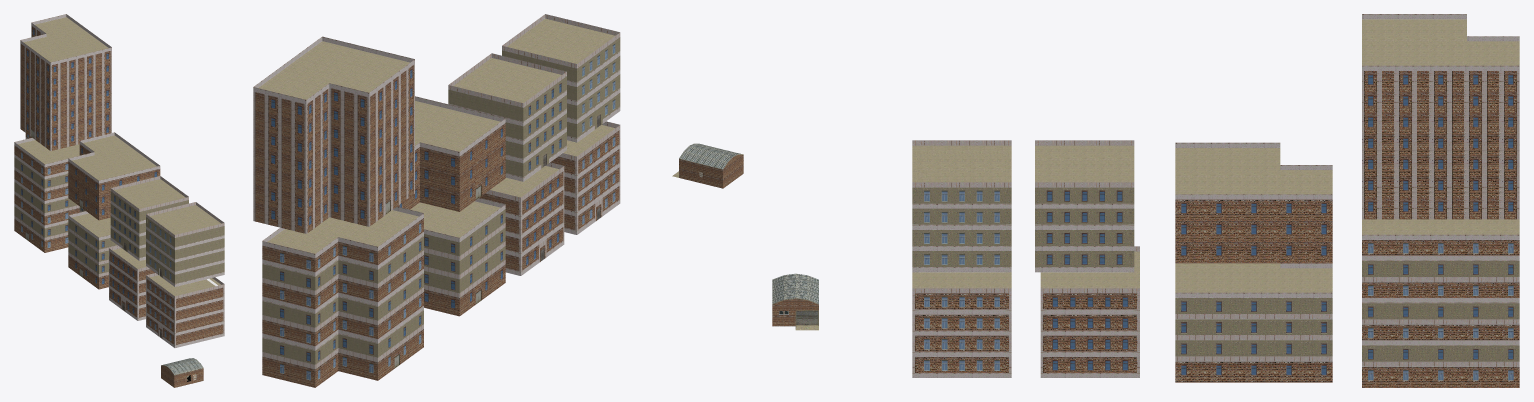
The model's file is env_urban_buildings_prebuild.glb.
3 renders of one model, left to right at view 1: azimuth 30°, elevation 25°; view 2: azimuth 150°, elevation 25°; view 3: azimuth 270°, elevation 25°, orthographic. The views are drawn at different scales.
Visible parts, largest first — view 1: flat_Lshape_vertical_stripes, flat_Lshape_large_alt, flat_square_concrete, flat_square_brick, flat_Lshape_brick, flat_square_concrete_alt, flat_Lshape, flat_square_brick_alt, Hangar1; view 2: flat_Lshape_vertical_stripes, flat_Lshape_large_alt, flat_square_concrete_alt, flat_Lshape_brick, flat_Lshape, flat_square_concrete, flat_square_brick_alt, flat_square_brick, Hangar1; view 3: flat_Lshape_vertical_stripes, flat_Lshape_large_alt, flat_Lshape, flat_Lshape_brick, flat_square_concrete, flat_square_concrete_alt, flat_square_brick_alt, flat_square_brick, Hangar1.
Boxes of the visible parts, x1,y1,x2,y2 form: flat_Lshape_vertical_stripes: (20, 14, 111, 150); flat_Lshape_large_alt: (14, 133, 79, 252); flat_square_concrete: (146, 202, 224, 286); flat_square_brick: (146, 273, 224, 347); flat_Lshape_brick: (68, 132, 160, 220); flat_square_concrete_alt: (110, 176, 188, 260); flat_Lshape: (68, 207, 117, 289); flat_square_brick_alt: (109, 246, 154, 320); Hangar1: (161, 358, 203, 387); flat_Lshape_vertical_stripes: (253, 36, 414, 233); flat_Lshape_large_alt: (262, 206, 423, 387); flat_square_concrete_alt: (448, 53, 566, 181); flat_Lshape_brick: (397, 96, 505, 211); flat_Lshape: (410, 198, 505, 316); flat_square_concrete: (502, 14, 620, 142); flat_square_brick_alt: (479, 162, 564, 275); flat_square_brick: (550, 121, 620, 234); Hangar1: (672, 143, 743, 188); flat_Lshape_vertical_stripes: (1362, 14, 1519, 219); flat_Lshape_large_alt: (1362, 219, 1519, 387); flat_Lshape: (1175, 263, 1332, 382); flat_Lshape_brick: (1175, 142, 1332, 263); flat_square_concrete: (912, 140, 1011, 272); flat_square_concrete_alt: (1035, 140, 1134, 272); flat_square_brick_alt: (1040, 246, 1139, 377); flat_square_brick: (912, 272, 1011, 377); Hangar1: (772, 273, 818, 330).
Bounding box in the file's own units: 37 × 61.83 × 128.
Materials: 1 (1 with a texture image).
